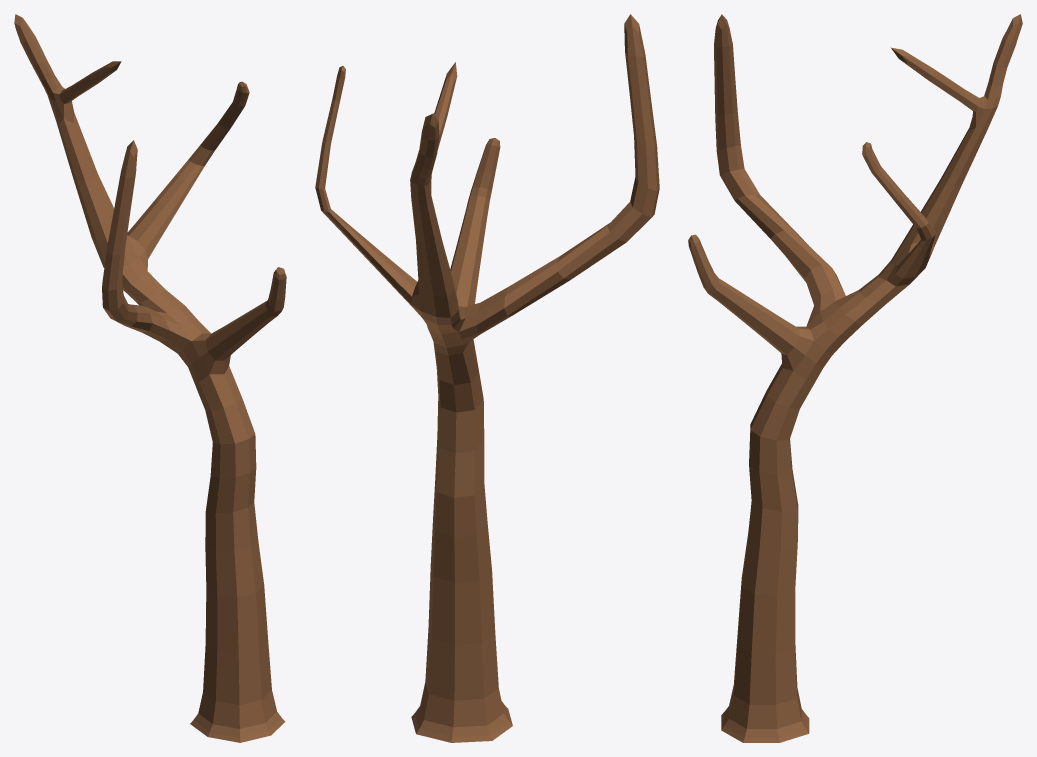
File: nature-commontree-dead-4.glb
3 views of the same model, side by side, from view 1: azimuth 30°, elevation 25°; view 2: azimuth 150°, elevation 25°; view 3: azimuth 270°, elevation 25° (orthographic). The views are drawn at different scales.
Visible parts, largest first — view 1: CommonTree_Dead_4; view 2: CommonTree_Dead_4; view 3: CommonTree_Dead_4.
Boxes of the visible parts, box(x1,y1,x2,y2) form: CommonTree_Dead_4: box(14, 14, 286, 742); CommonTree_Dead_4: box(315, 14, 659, 742); CommonTree_Dead_4: box(688, 14, 1022, 742).
Size of the model in its own units: 81.61 by 237 by 108.
